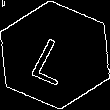L_NE: (28, 25, 82, 85)
